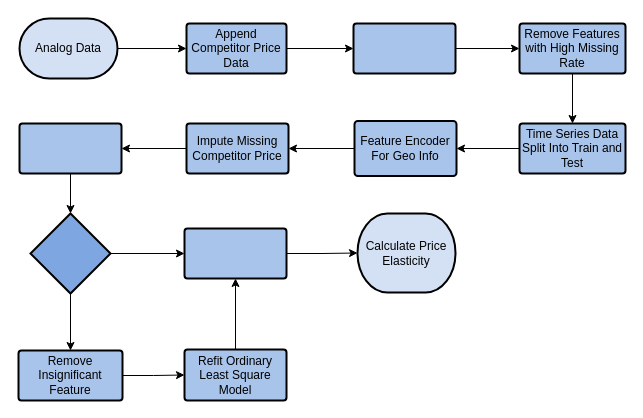
Some shapes in this 643 by 418 pixel diagram are drawn without their labels. Each missing label, with the centre of its shape:
Filter Each SKU: the point at 404,48
Fit Ordinary Least Square Model: the point at 70,148
Generate Model Summary: the point at 235,253
Insignificant Feature ?: the point at 70,253
